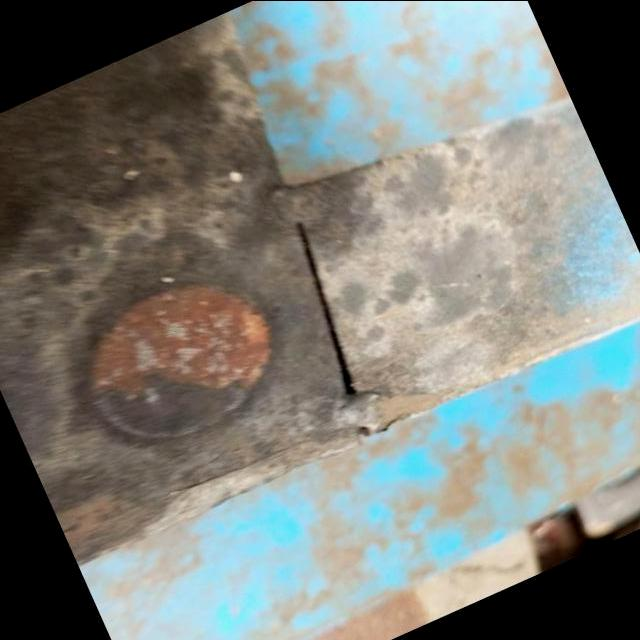defect: (294, 213, 366, 402)
